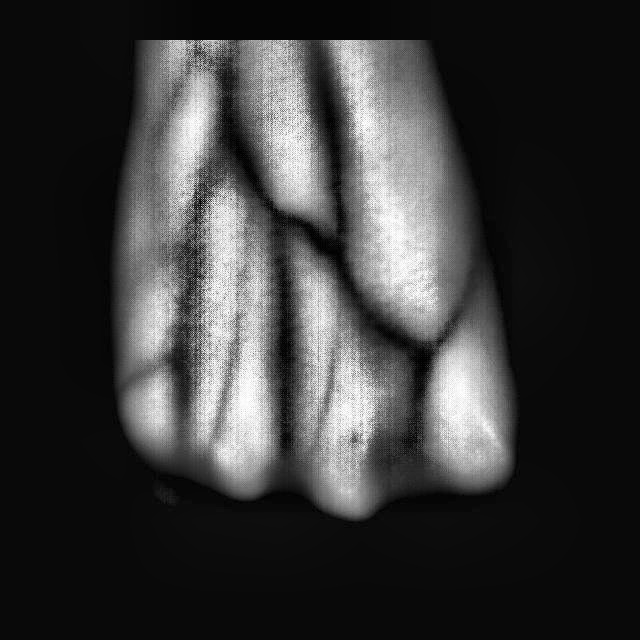Vein: (304, 40, 355, 234)
